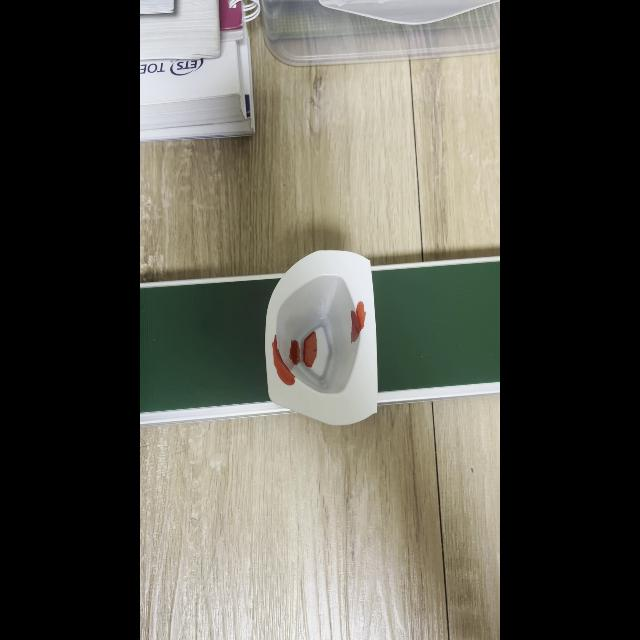dirty: (268, 282, 380, 406)
